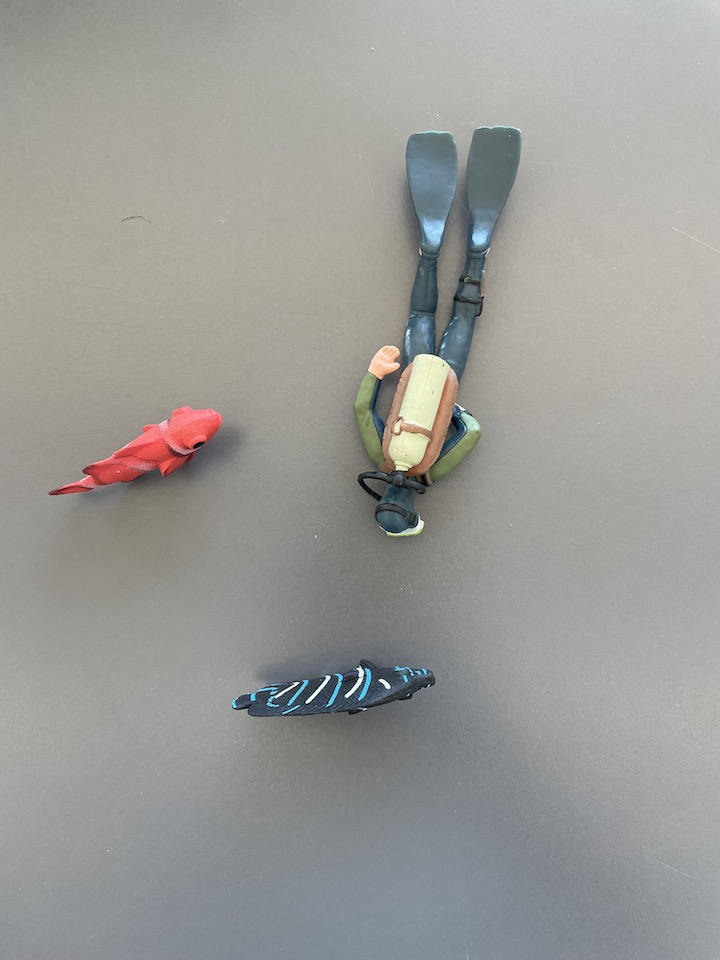diver: (352, 125, 524, 538)
fish: (47, 404, 225, 499), (230, 657, 437, 720)
